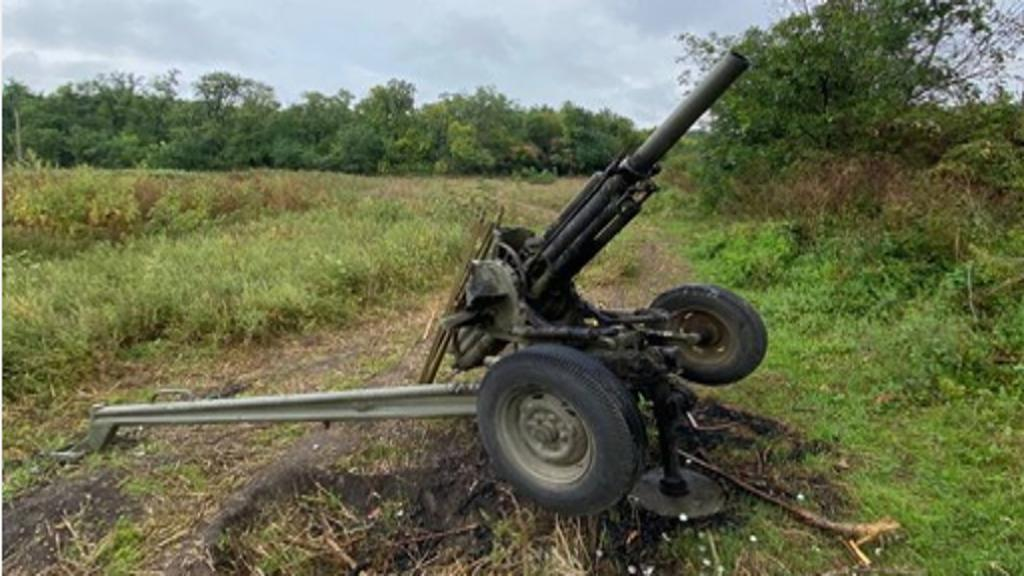ART: (84, 38, 766, 510)
